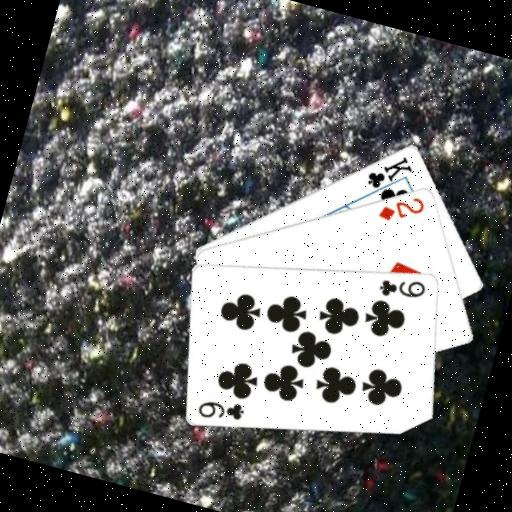2D: (374, 184, 428, 230)
9C: (374, 266, 430, 307), (193, 389, 249, 428)
KC: (360, 144, 418, 206)
